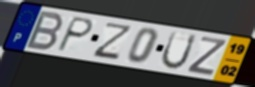0: (126, 27, 159, 66)
B: (23, 10, 66, 52)
P: (54, 16, 96, 54)
U: (159, 29, 199, 71)
Z: (184, 35, 229, 78), (90, 21, 135, 61)
